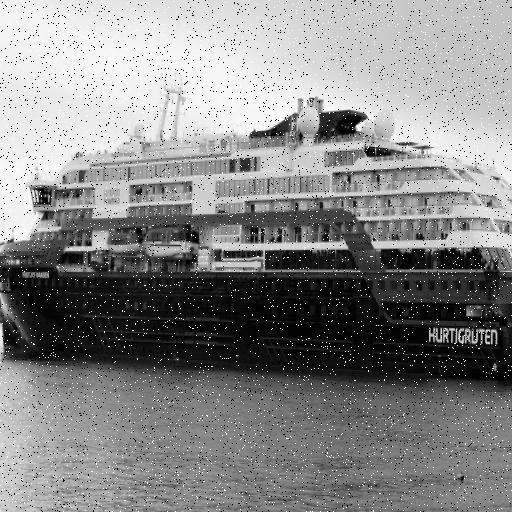cruises: (1, 92, 512, 389)
